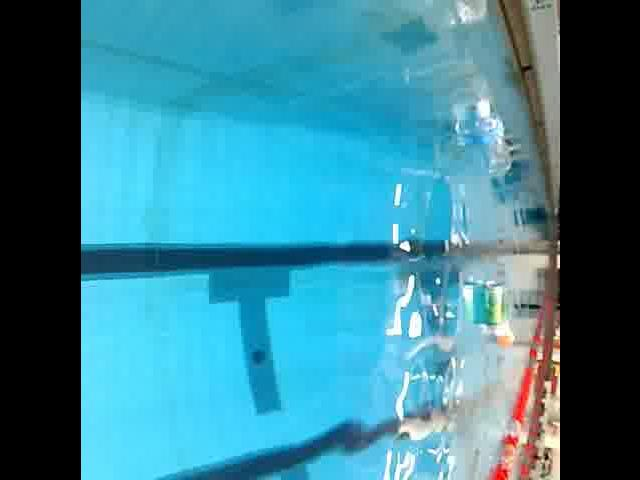Bottle: (468, 92, 512, 182), (448, 0, 490, 30), (491, 316, 519, 354)
Can: (481, 276, 506, 332)
